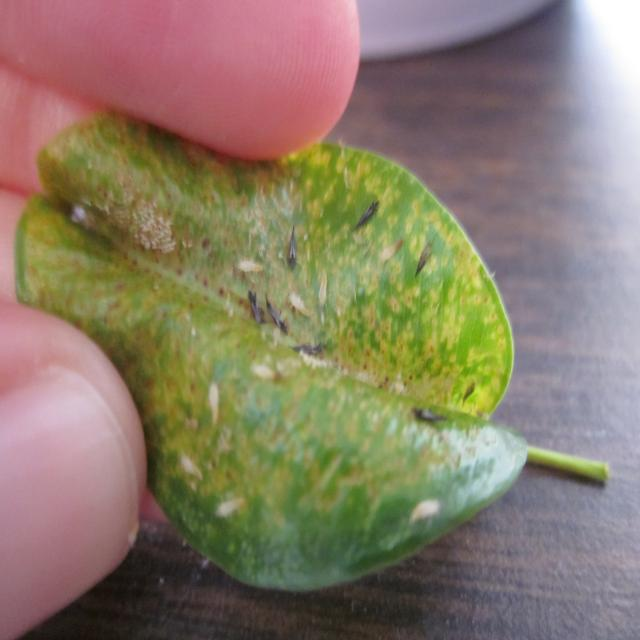Thrip-Adult-: (262, 285, 288, 336), (408, 238, 440, 279), (352, 196, 387, 232), (410, 405, 452, 429), (283, 218, 299, 274), (460, 374, 479, 412), (292, 338, 324, 358), (247, 291, 262, 326)
Thrip-Larva-: (396, 486, 451, 530), (214, 484, 252, 522), (283, 289, 315, 323), (316, 266, 336, 317), (176, 447, 202, 486), (376, 234, 405, 265), (230, 256, 266, 279), (204, 378, 220, 428)
